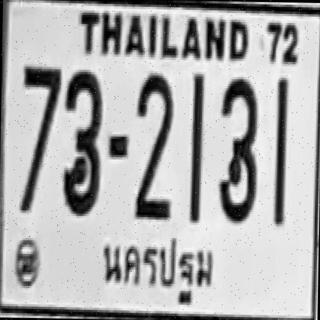N01: (187, 70, 203, 221), (271, 75, 287, 224)
N02: (134, 70, 174, 218)
N03: (60, 68, 102, 212), (217, 75, 257, 220)
N07: (19, 63, 61, 212), (20, 64, 61, 163)
P28: (94, 230, 225, 308)
